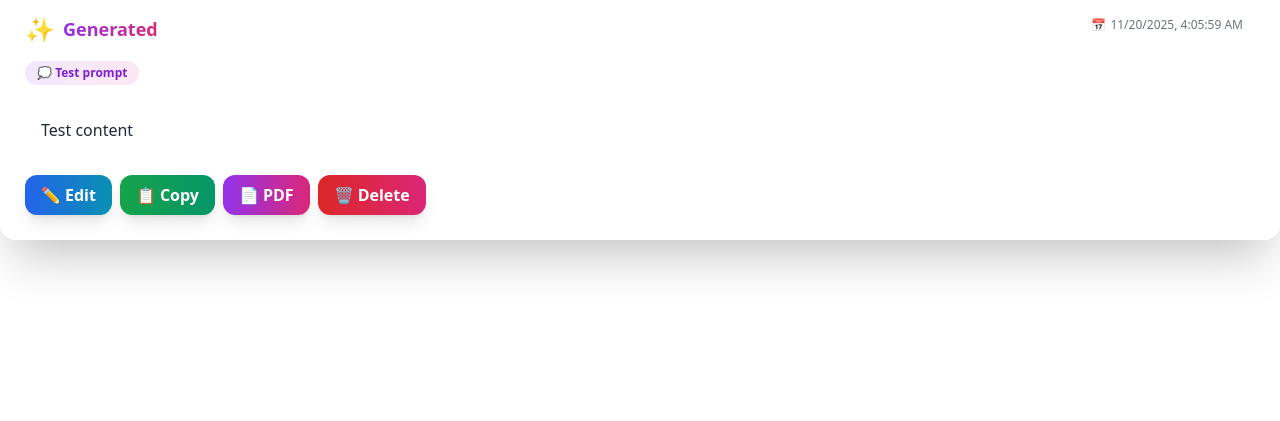
Test: ContentCard › enables edit mode when edit button is clicked
This screenshot has width=1280, height=421.
What coordinates should you click on to do the following:
click the text "Edit"
I would click on:
 (80, 195)
Its box is [65,183,96,207].
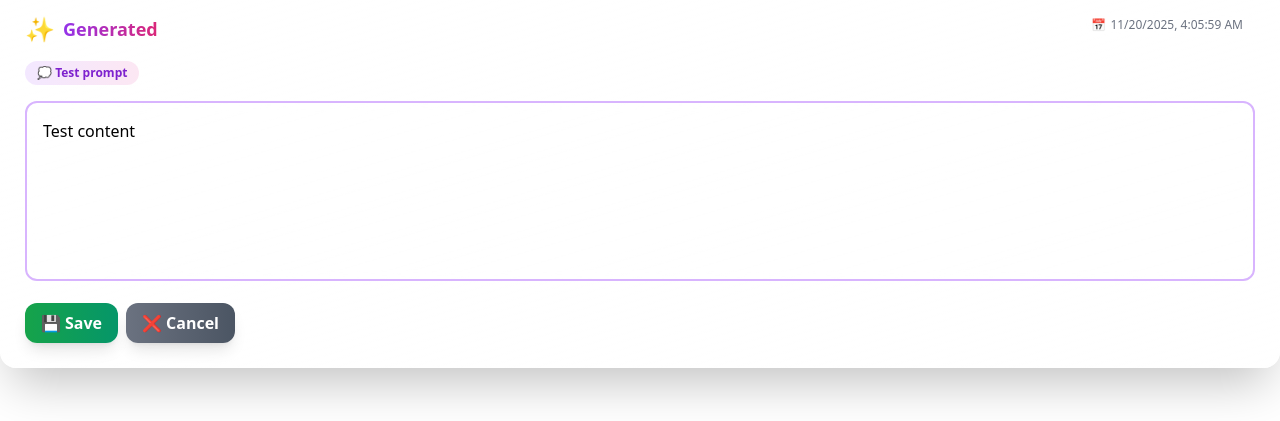
Check: the text "Save" is shown, box [65,311,102,335]
Check: the text box showing "Test content" is shown, box [25,101,1255,281]
